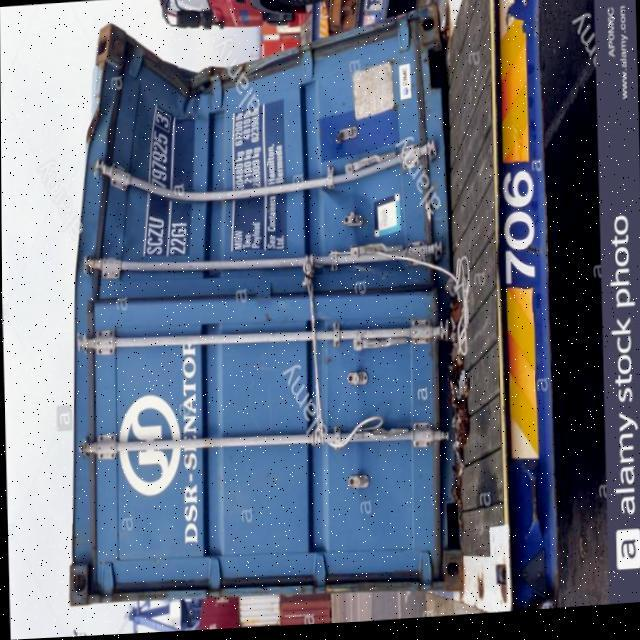dent: (66, 5, 445, 334)
